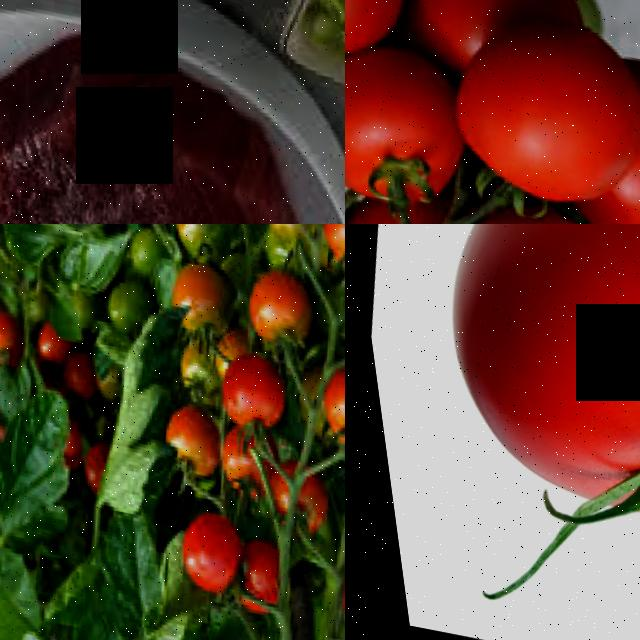tomato: (379, 224, 640, 592), (418, 2, 640, 218), (345, 35, 473, 216), (158, 506, 247, 604), (230, 260, 319, 356), (199, 347, 289, 436), (161, 259, 240, 354), (299, 355, 345, 455), (317, 548, 345, 640), (305, 224, 345, 276)
tuna: (0, 32, 342, 224), (0, 108, 137, 224)
